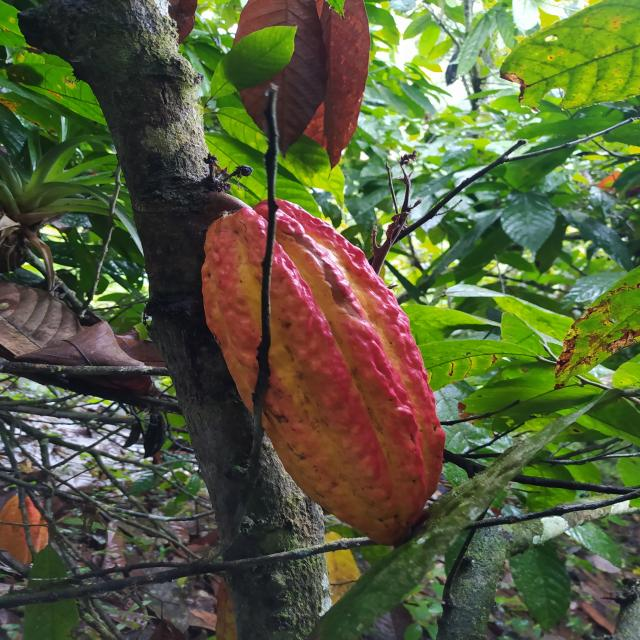Sana: (198, 195, 448, 549)
